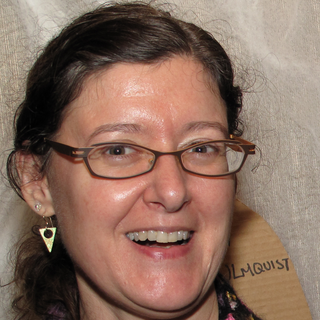eye: (98, 141, 142, 164), (180, 141, 223, 160)
